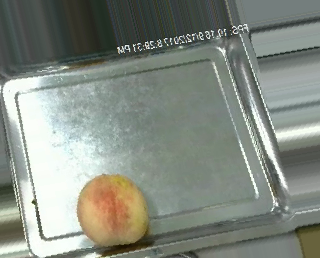Peach: (76, 173, 149, 247)
